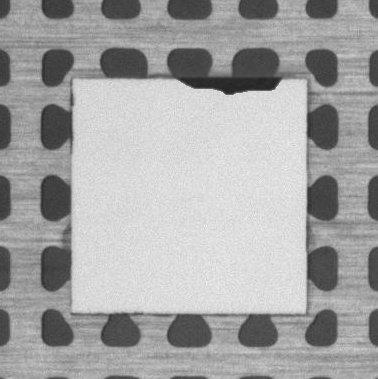DIE_BROKEN: (178, 75, 285, 96)
